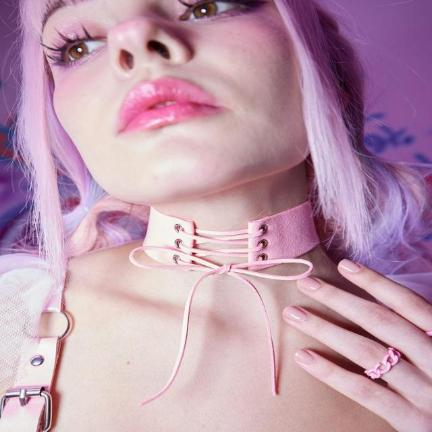Nail: (284, 306, 308, 322), (295, 349, 315, 365), (339, 259, 360, 274), (298, 277, 320, 291)
